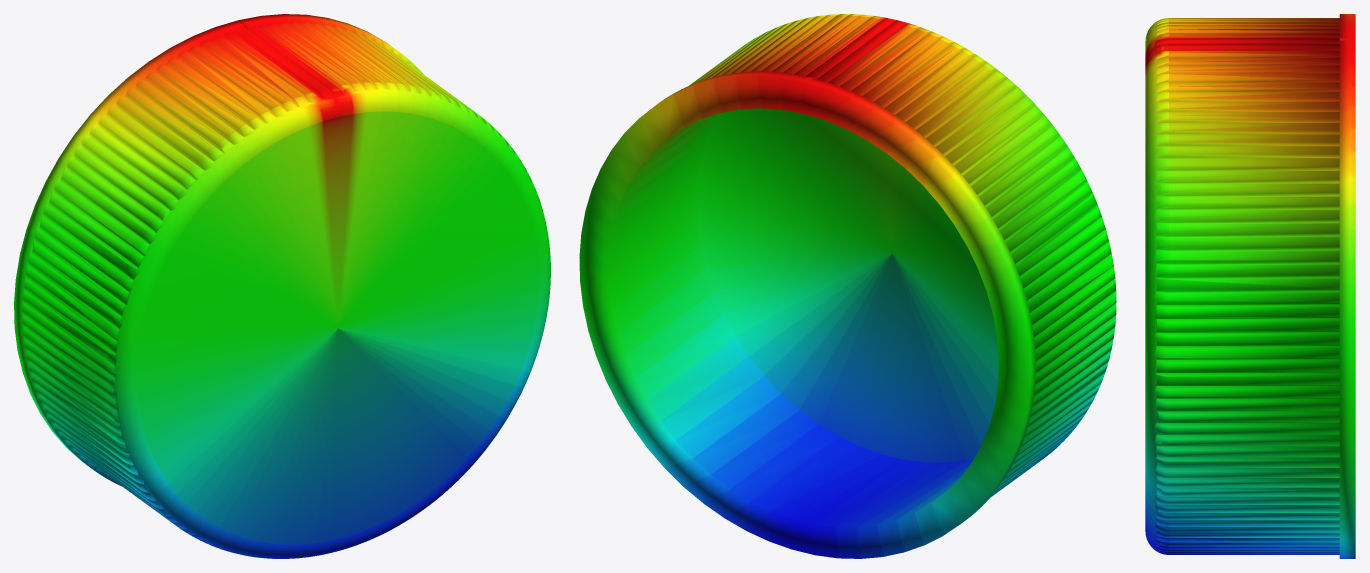
The model's file is cap_conicaltube050.obj.
The picture shows the model from 3 angles, left to right: view 1: azimuth 30°, elevation 25°; view 2: azimuth 150°, elevation 25°; view 3: azimuth 270°, elevation 25°; orthographic projection. The views are drawn at different scales.
Size of the model in its own units: 34.49 by 34.48 by 13.3.
